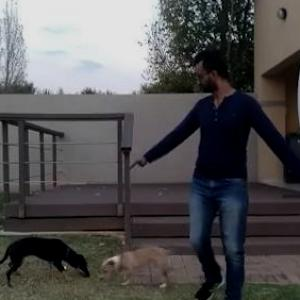land: (100, 17, 299, 299)
